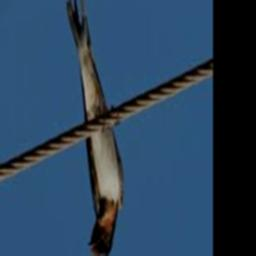Swallow: (65, 0, 123, 256)
